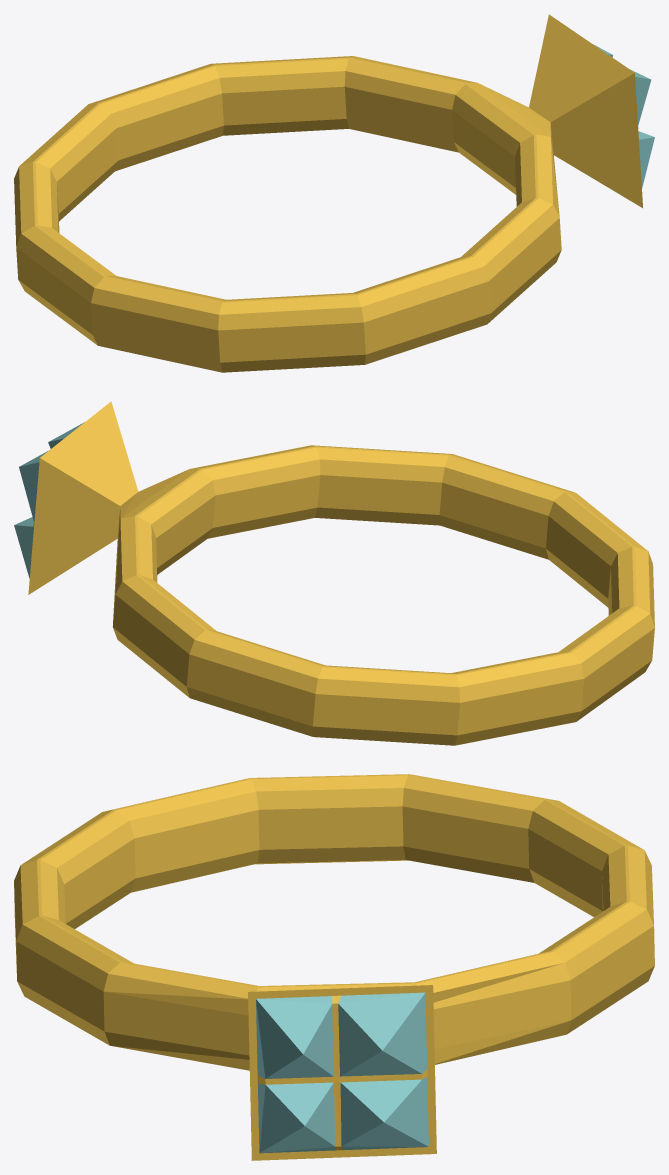
The model's file is Ring.fbx.
3 views of the same model, one above another, from view 1: azimuth 30°, elevation 25°; view 2: azimuth 150°, elevation 25°; view 3: azimuth 270°, elevation 25° (orthographic). The views are drawn at different scales.
Visible parts, largest first — view 1: Tube; view 2: Tube; view 3: Tube.
Part boxes in pixels (left/top/right/bottom): Tube: left=14, top=14, right=654, bottom=372; Tube: left=14, top=401, right=654, bottom=745; Tube: left=14, top=774, right=654, bottom=1160.
Bounding box in the file's own units: 465 × 112 × 373.
